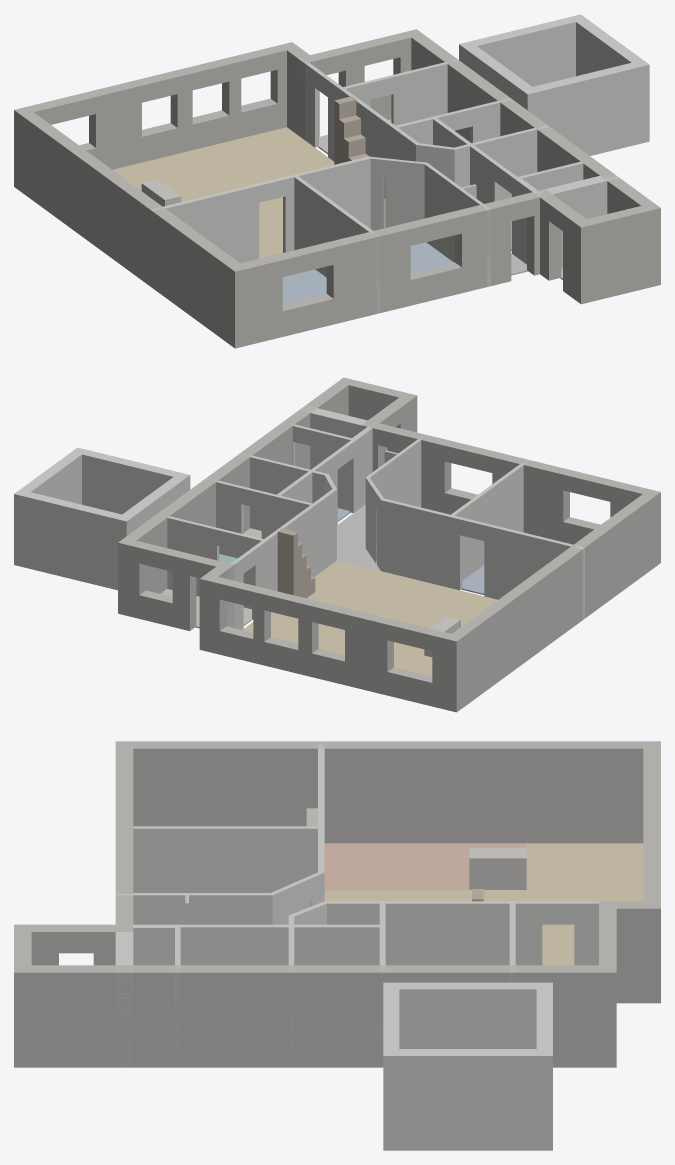
File: PROP_1078.glb
3 renders of one model, top to bottom at view 1: azimuth 30°, elevation 25°; view 2: azimuth 150°, elevation 25°; view 3: azimuth 270°, elevation 25°, orthographic. The views are drawn at different scales.
Parts seen in each view (by area): view 1: L0_wall_F0_W6, L0_wall_F0_W7, L0_wall_F0_W0, L0_floor_F0_R2_0, L0_wall_F0_W11, L0_wall_F0_W23, L0_wall_F0_W3, L0_wall_F0_W4, L0_wall_F0_W21, L0_wall_F0_W14, L0_wall_F0_W17, L0_wall_F0_W10 (+18 smaller); view 2: L0_wall_F0_W0, L0_wall_F0_W7, L0_wall_F0_W6, L0_wall_F0_W11, L0_floor_F0_R2_0, L0_wall_F0_W21, L0_wall_F0_W3, L0_wall_F0_W2, L0_wall_F0_W14, L0_wall_F0_W23, L0_wall_F0_W25, L0_wall_F0_W18 (+15 smaller); view 3: L0_wall_F0_W7, L0_wall_F0_W3, L0_wall_F0_W22, L0_wall_F0_W14, L0_wall_F0_W25, L0_floor_F0_R2_0, L0_wall_F0_W20, L0_wall_F0_W19, L0_floor_F0_R3_0, L0_wall_F0_W9, L0_wall_F0_W1, L0_wall_F0_W6 (+13 smaller).
Part boxes in pixels (box(x1,y1,x2,y2)): L0_wall_F0_W6: box(235, 189, 544, 348); L0_wall_F0_W7: box(14, 110, 239, 348); L0_wall_F0_W0: box(14, 42, 291, 169); L0_floor_F0_R2_0: box(112, 127, 385, 258); L0_wall_F0_W11: box(150, 156, 370, 263); L0_wall_F0_W23: box(527, 62, 649, 155); L0_wall_F0_W3: box(411, 29, 660, 213); L0_wall_F0_W4: box(581, 206, 660, 304); L0_wall_F0_W21: box(459, 14, 580, 86); L0_wall_F0_W14: box(297, 57, 418, 198); L0_wall_F0_W17: box(338, 59, 458, 125); L0_wall_F0_W10: box(369, 156, 426, 230); L0_wall_F0_W0: box(199, 576, 456, 712); L0_wall_F0_W7: box(452, 492, 660, 711); L0_wall_F0_W6: box(361, 423, 659, 544); L0_wall_F0_W11: box(381, 498, 584, 619); L0_floor_F0_R2_0: box(242, 560, 497, 676); L0_wall_F0_W21: box(14, 492, 126, 590); L0_wall_F0_W3: box(118, 377, 348, 593); L0_wall_F0_W2: box(118, 540, 233, 630); L0_wall_F0_W14: box(227, 489, 336, 629); L0_wall_F0_W23: box(78, 447, 189, 514); L0_wall_F0_W25: box(448, 459, 529, 587); L0_wall_F0_W18: box(205, 478, 316, 576); L0_wall_F0_W7: box(116, 741, 659, 843); L0_wall_F0_W3: box(14, 965, 616, 1067); L0_wall_F0_W22: box(383, 1049, 552, 1150); L0_wall_F0_W14: box(325, 901, 598, 965); L0_wall_F0_W25: box(117, 826, 324, 892); L0_floor_F0_R2_0: box(324, 843, 643, 965); L0_wall_F0_W20: box(384, 982, 551, 1048); L0_wall_F0_W19: box(175, 924, 379, 965); L0_floor_F0_R3_0: box(324, 843, 526, 889); L0_wall_F0_W9: box(115, 893, 272, 965); L0_wall_F0_W1: box(600, 901, 660, 1003); L0_wall_F0_W6: box(115, 741, 133, 931).
Size of the model in its own units: 19.23 by 2.8 by 16.7.
